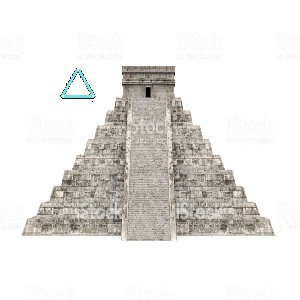triangle: (58, 66, 97, 101)
